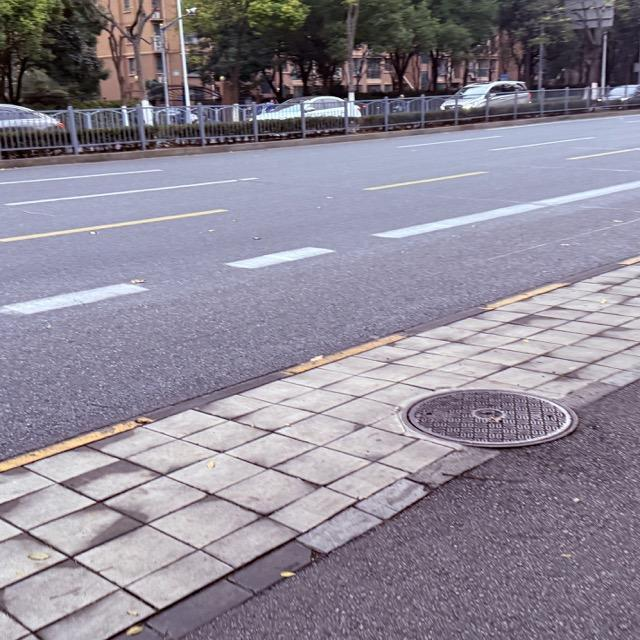curb: (0, 255, 639, 473), (115, 447, 498, 640), (0, 109, 639, 170), (556, 365, 639, 416)
